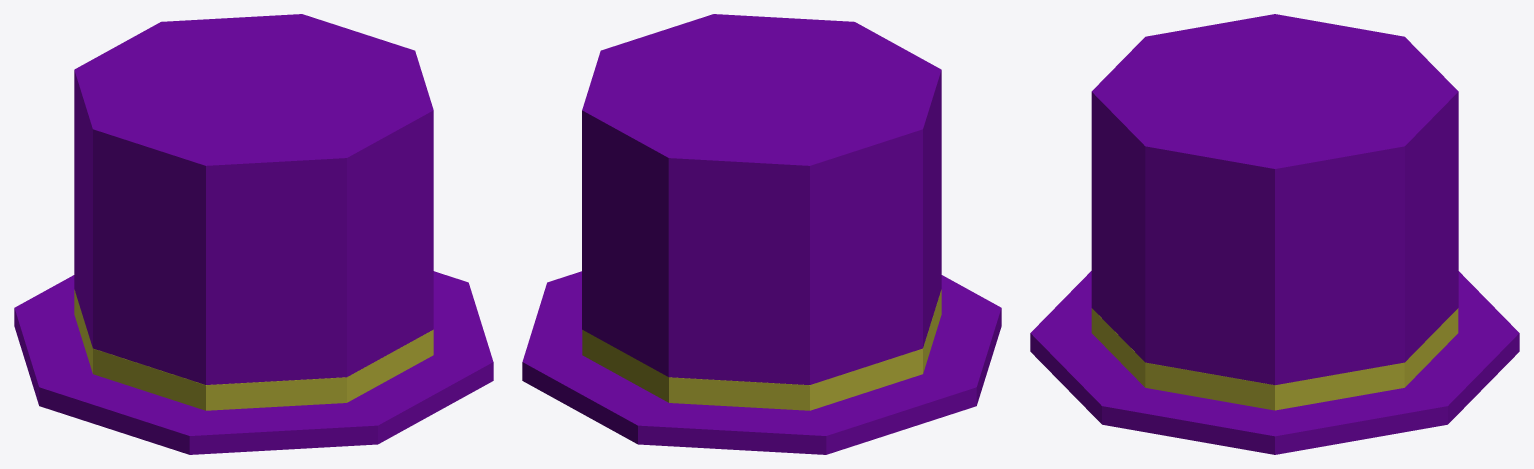
Rendered from degen_hat.glb.
3 renders of one model, left to right at view 1: azimuth 30°, elevation 25°; view 2: azimuth 150°, elevation 25°; view 3: azimuth 270°, elevation 25°, orthographic.
Bounding box in the file's own units: 0.3998 × 0.2346 × 0.3998.
